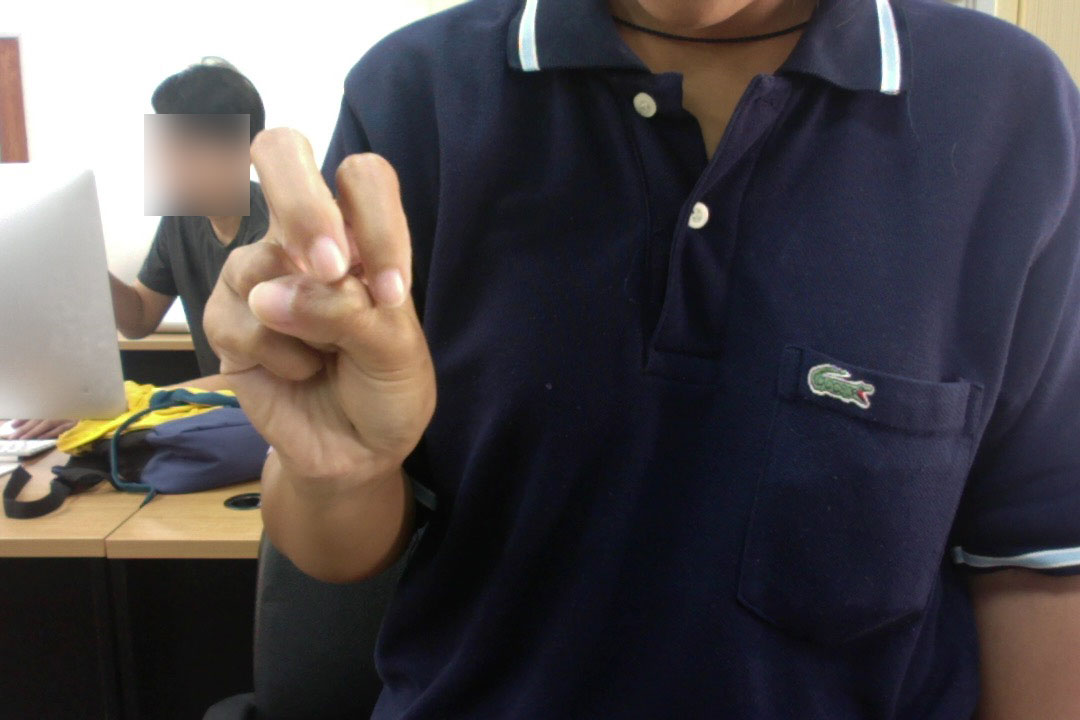nor: (198, 120, 443, 494)
